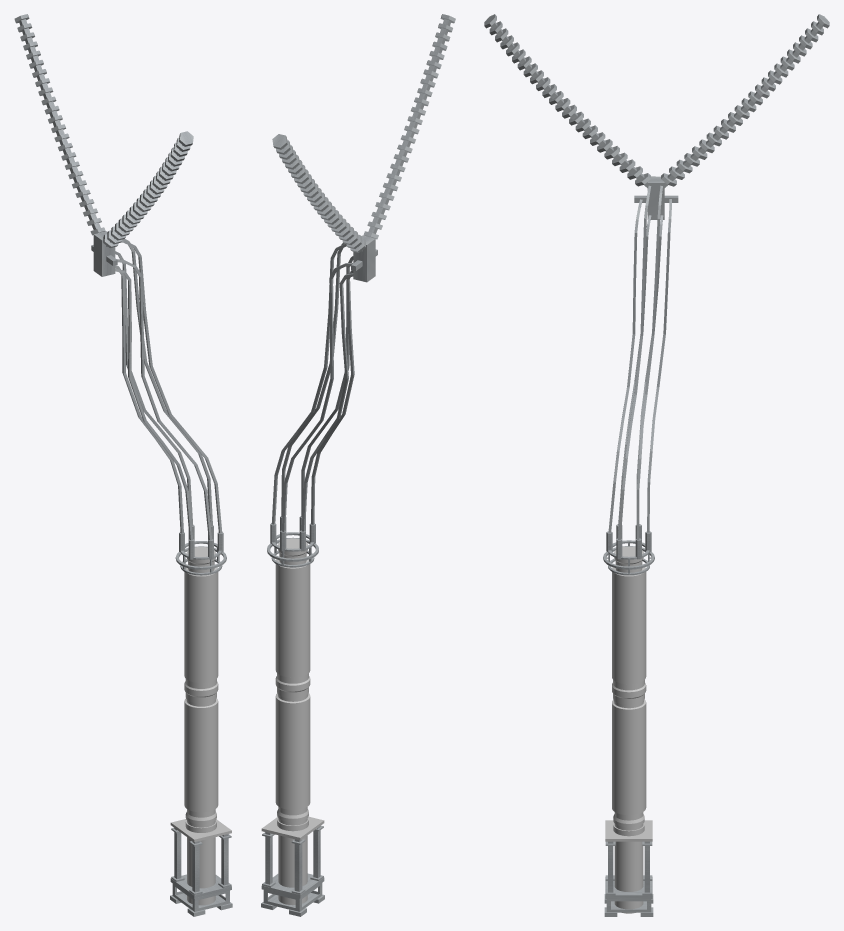
Rendered from tower_sub001.FBX.
3 renders of one model, left to right at view 1: azimuth 30°, elevation 25°; view 2: azimuth 150°, elevation 25°; view 3: azimuth 270°, elevation 25°, orthographic. The views are drawn at different scales.
Visible parts, largest first — view 1: tower_sub001; view 2: tower_sub001; view 3: tower_sub001.
Boxes of the visible parts, <box> form: tower_sub001: <box>14,14,232,916</box>; tower_sub001: <box>261,14,455,916</box>; tower_sub001: <box>484,14,829,916</box>.
Bounding box in the file's own units: 401 × 2862 × 1054.
